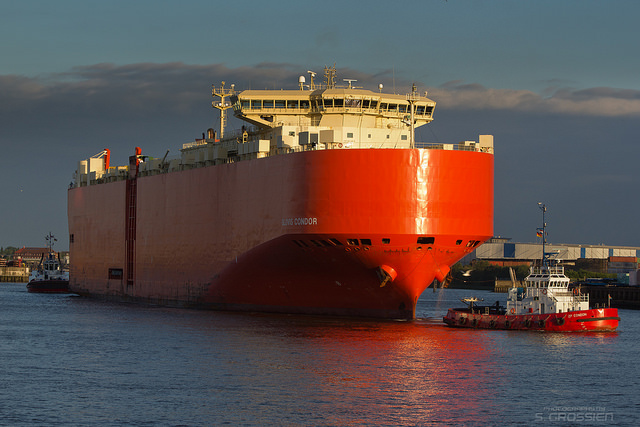PCC: (69, 67, 498, 331)
tug_boat: (457, 208, 621, 341), (26, 230, 71, 291)
